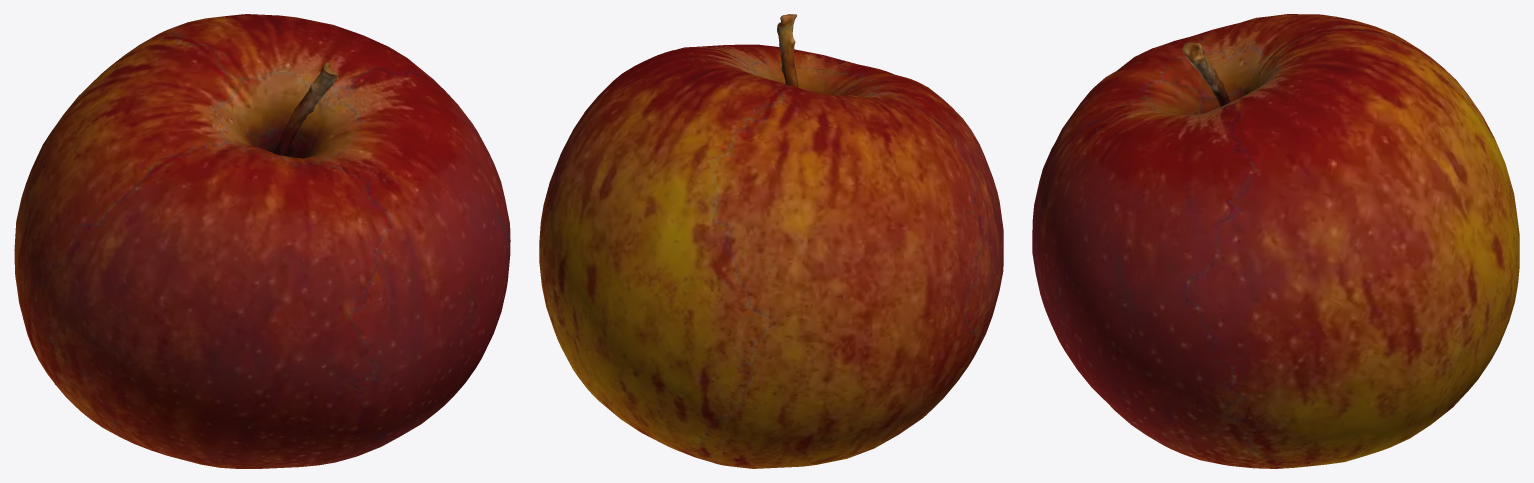
File: food_apple_01.glb
3 views of the same model, side by side, from view 1: azimuth 30°, elevation 25°; view 2: azimuth 150°, elevation 25°; view 3: azimuth 270°, elevation 25° (orthographic). The views are drawn at different scales.
Visible parts, largest first — view 1: food_apple_01; view 2: food_apple_01; view 3: food_apple_01.
Boxes of the visible parts, box(x1,y1,x2,y2) form: food_apple_01: box(14, 14, 510, 468); food_apple_01: box(539, 14, 1003, 468); food_apple_01: box(1032, 14, 1519, 468).
Size of the model in its own units: 0.0976 by 0.0854 by 0.0959.
Materials: 1 (1 with a texture image).
